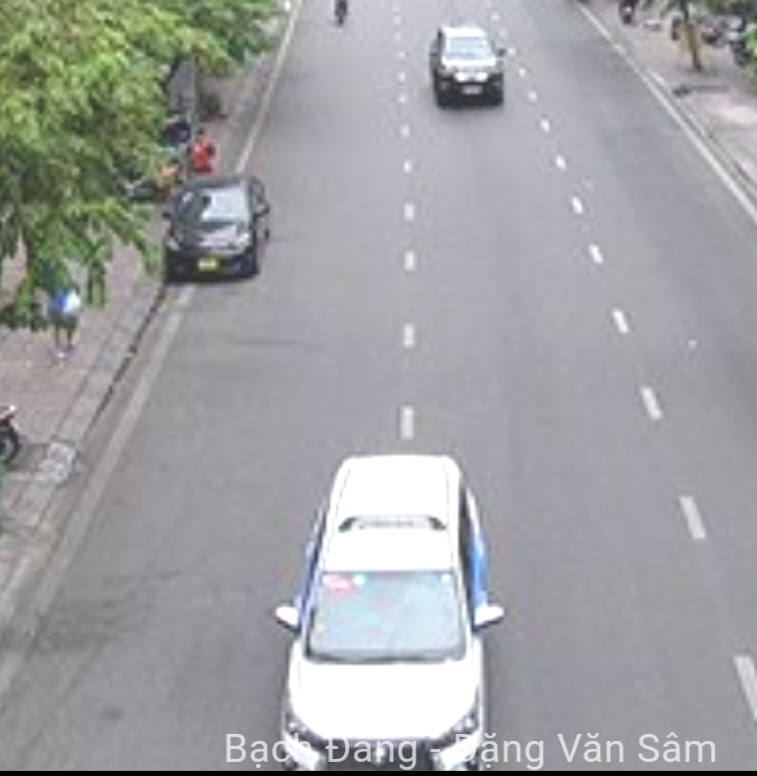car: (279, 450, 484, 768), (166, 174, 270, 281), (428, 26, 507, 107)
